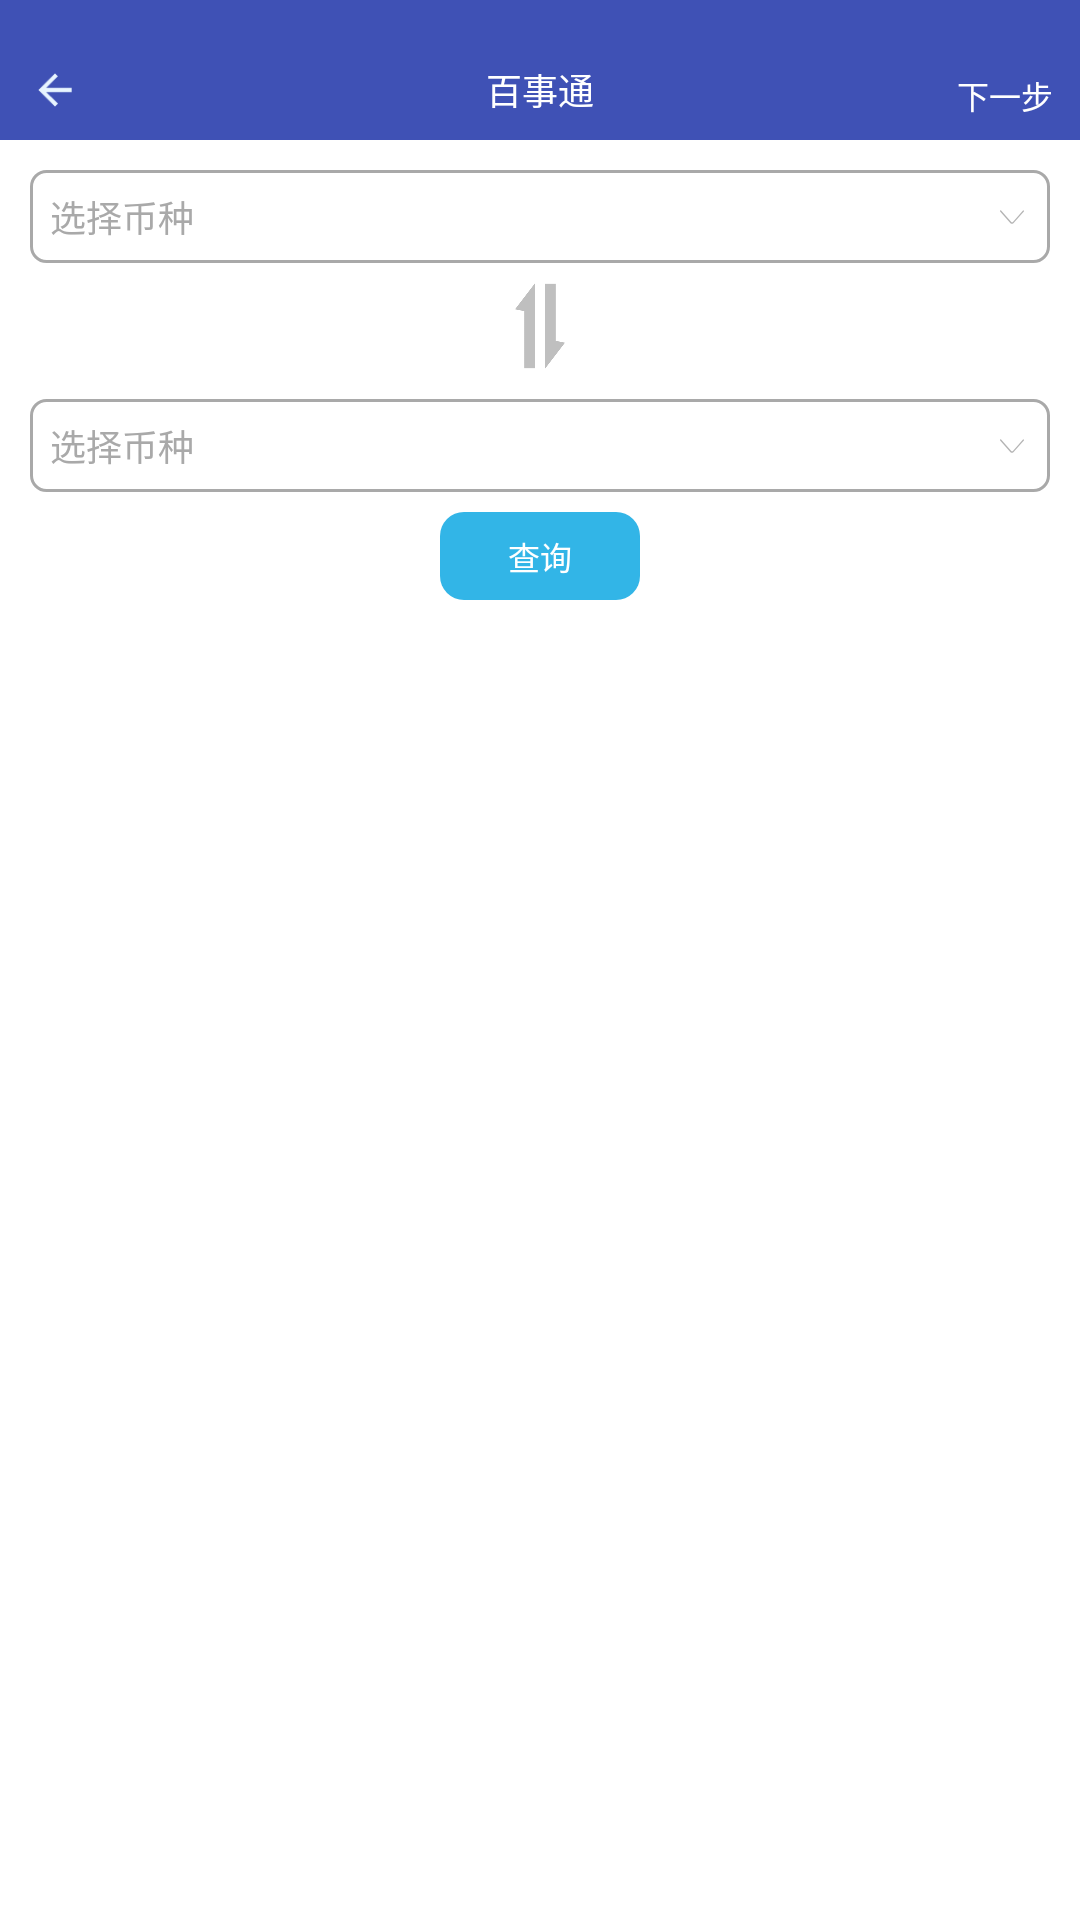

Icon click points for this 1080 x 1920 phone screenshot, format (x,y):
back: (55,90)
